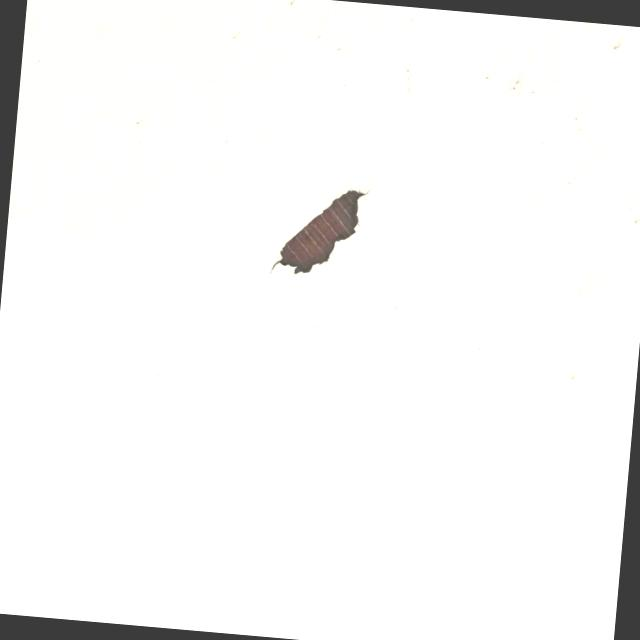surface_peeling: (268, 173, 374, 284)
